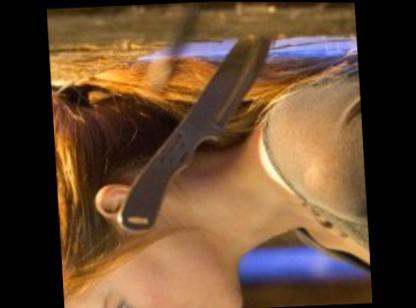knife: (97, 26, 291, 239)
